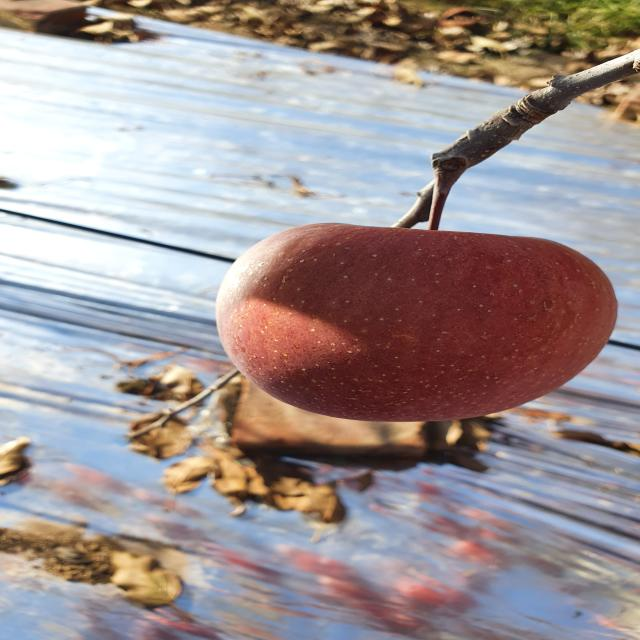fresh: (205, 217, 631, 431)
